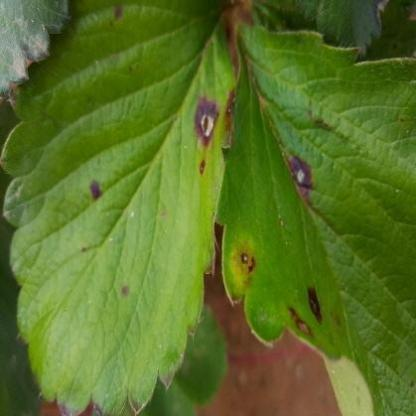Strawberry_Leaf_Spot: (0, 0, 238, 415), (214, 23, 414, 416)
